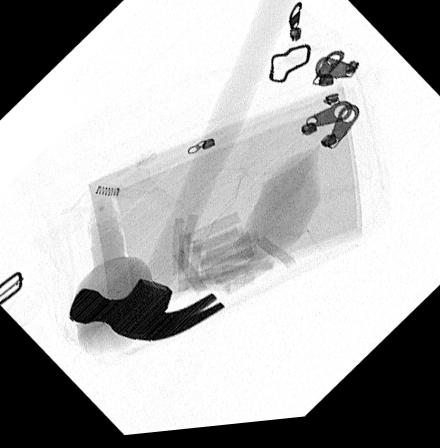Hammer: (67, 0, 299, 344)
